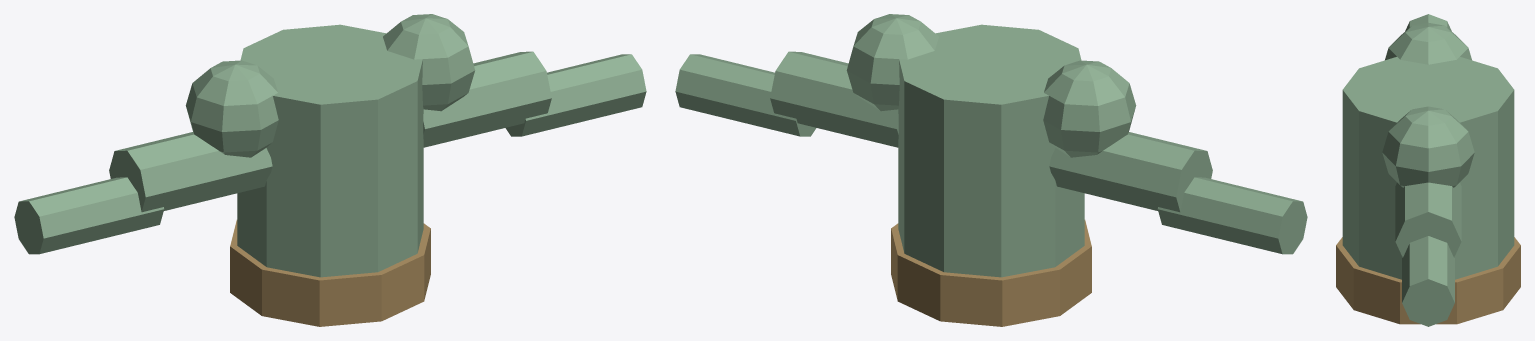
Rendered from troll_body.dae.
3 renders of one model, left to right at view 1: azimuth 30°, elevation 25°; view 2: azimuth 150°, elevation 25°; view 3: azimuth 270°, elevation 25°, orthographic. The views are drawn at different scales.
Parts seen in each view (by area): view 1: Cylinder, Cylinder.005, Cylinder.001, Cylinder.003, Cylinder.002, Sphere, Cylinder.004, Sphere.001; view 2: Cylinder, Cylinder.005, Cylinder.001, Cylinder.003, Cylinder.002, Sphere, Cylinder.004, Sphere.001; view 3: Cylinder, Cylinder.005, Sphere.001, Cylinder.004, Cylinder.002, Sphere, Cylinder.003.
Part boxes in pixels (x1,y1,x2,y2): Cylinder: [237, 24, 423, 277]; Cylinder.005: [230, 220, 430, 326]; Cylinder.001: [109, 132, 272, 212]; Cylinder.003: [14, 177, 164, 254]; Cylinder.002: [423, 51, 551, 147]; Sphere: [185, 60, 278, 157]; Cylinder.004: [505, 54, 646, 136]; Sphere.001: [383, 14, 475, 111]; Cylinder: [898, 24, 1084, 277]; Cylinder.005: [891, 220, 1091, 326]; Cylinder.001: [1049, 132, 1212, 212]; Cylinder.003: [1157, 177, 1307, 254]; Cylinder.002: [770, 51, 898, 147]; Sphere: [1043, 60, 1136, 157]; Cylinder.004: [675, 54, 816, 136]; Sphere.001: [846, 14, 938, 111]; Cylinder: [1342, 57, 1514, 279]; Cylinder.005: [1336, 237, 1520, 324]; Sphere.001: [1382, 106, 1474, 187]; Cylinder.004: [1402, 236, 1454, 326]; Cylinder.002: [1395, 182, 1461, 257]; Sphere: [1385, 22, 1471, 64]; Cylinder.003: [1405, 14, 1451, 31].
Size of the model in its own units: 190 by 56 by 73.
